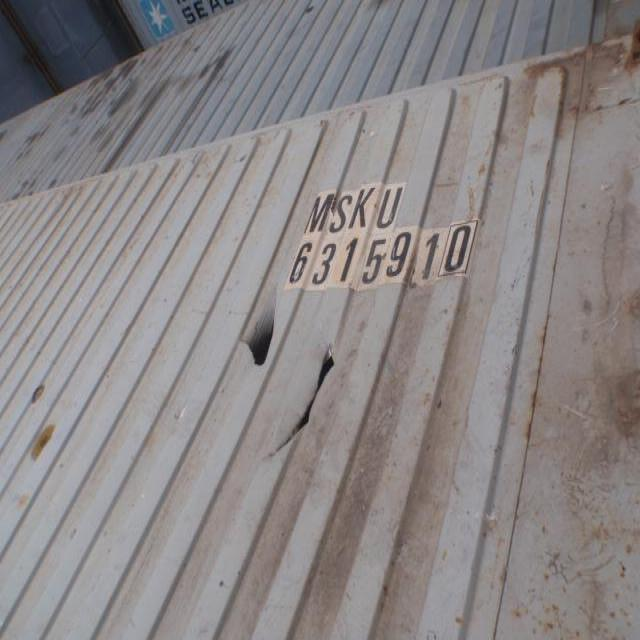hole: (261, 352, 350, 474), (242, 314, 279, 369)
